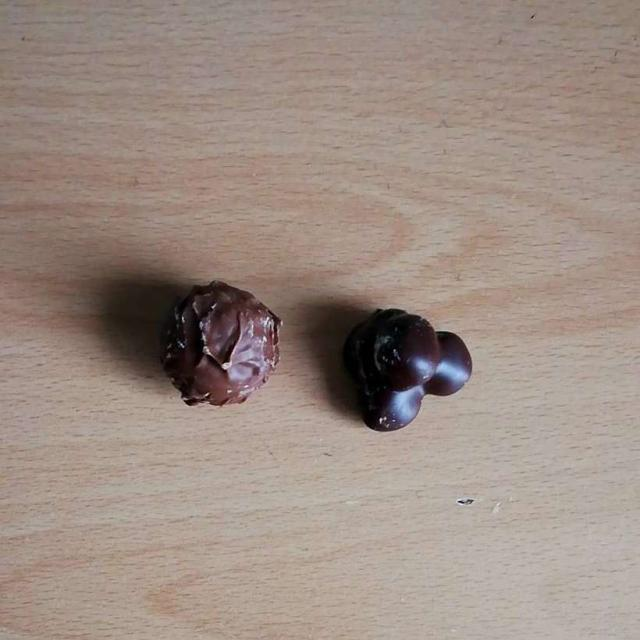chocolate: (339, 309, 470, 421)
nuts: (161, 282, 279, 405)
